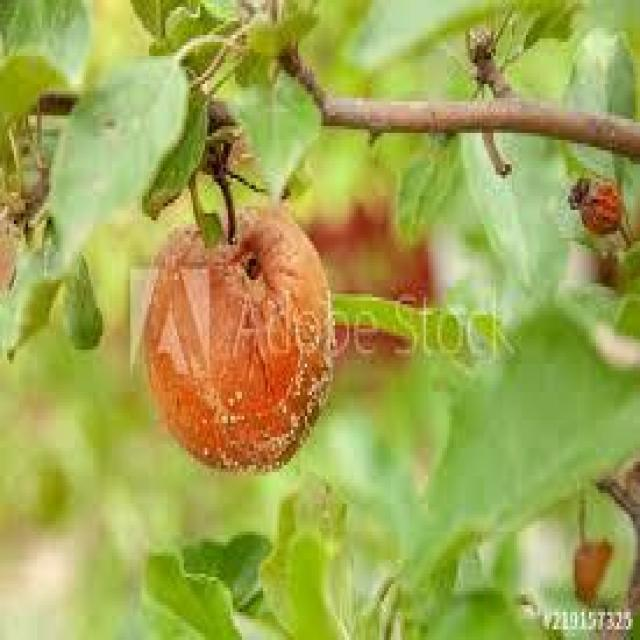Apple: (143, 198, 335, 478)
